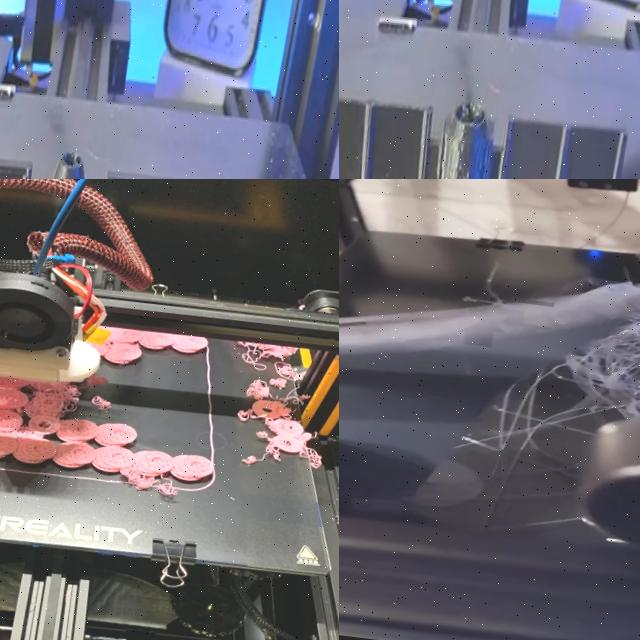spaghetti: (0, 269, 216, 502), (528, 250, 640, 444), (235, 341, 328, 466)
